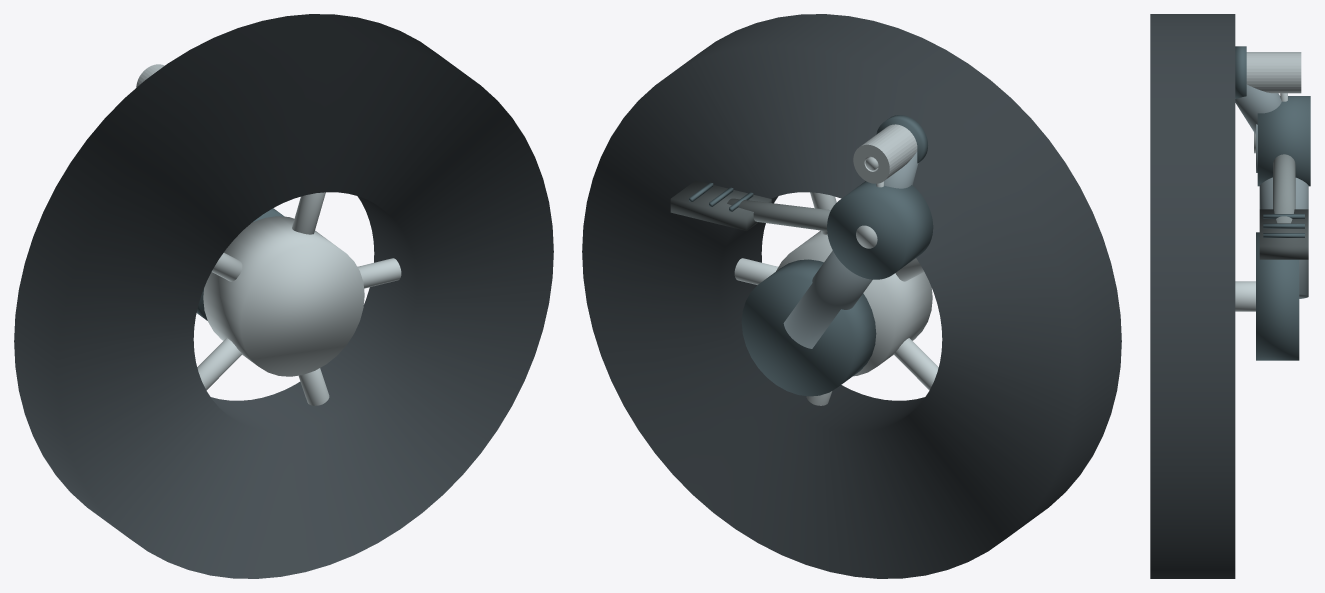
The model's file is wheel-rear-left-m.glb.
3 renders of one model, left to right at view 1: azimuth 30°, elevation 25°; view 2: azimuth 150°, elevation 25°; view 3: azimuth 270°, elevation 25°, orthographic.
Parts seen in each view (by area): view 1: RL_tire.002, RL_sealed_hub.002, RL_spoke_3.002, RL_spoke_1.002, RL_spoke_0.002, RL_spoke_4.002; view 2: RL_tire.002, RL_brake_backplate.002, compact_rear_elastomer_case_-1.002, RL_sealed_hub.002, aligned_short_rear_arm_-1.002, V46_brake_tread.003, rear_load_spigot_-1.002, V46_brake_lever.003, RL_spoke_3.002, RL_spoke_0.002, rear_module_shoulder_-1.002; view 3: RL_tire.002, RL_brake_backplate.002, compact_rear_elastomer_case_-1.002, rear_load_spigot_-1.002, V46_brake_tread.003, V46_brake_lever.003, aligned_short_rear_arm_-1.002, fixed_rear_module_root_-1.002, RL_fixed_axle.002, rear_module_shoulder_-1.002, V46_tread_rib_0.003.
Boxes of the visible parts, <box> form: RL_tire.002: <box>14,14,553,578</box>; RL_sealed_hub.002: <box>203,216,364,376</box>; RL_spoke_3.002: <box>197,338,242,390</box>; RL_spoke_1.002: <box>292,192,325,234</box>; RL_spoke_0.002: <box>357,258,401,288</box>; RL_spoke_4.002: <box>298,368,329,405</box>; RL_tire.002: <box>582,14,1121,578</box>; RL_brake_backplate.002: <box>741,259,876,396</box>; compact_rear_elastomer_case_-1.002: <box>827,181,933,279</box>; RL_sealed_hub.002: <box>776,230,932,376</box>; aligned_short_rear_arm_-1.002: <box>783,250,872,348</box>; V46_brake_tread.003: <box>670,180,771,230</box>; rear_load_spigot_-1.002: <box>853,124,917,183</box>; V46_brake_lever.003: <box>727,198,830,231</box>; RL_spoke_3.002: <box>893,338,938,390</box>; RL_spoke_0.002: <box>734,258,778,284</box>; rear_module_shoulder_-1.002: <box>876,115,927,163</box>; RL_tire.002: <box>1150,14,1235,578</box>; RL_brake_backplate.002: <box>1256,232,1299,360</box>; compact_rear_elastomer_case_-1.002: <box>1257,96,1310,186</box>; rear_load_spigot_-1.002: <box>1246,52,1301,93</box>; V46_brake_tread.003: <box>1259,209,1308,259</box>; V46_brake_lever.003: <box>1273,154,1295,223</box>; aligned_short_rear_arm_-1.002: <box>1259,177,1308,298</box>; fixed_rear_module_root_-1.002: <box>1235,84,1281,134</box>; RL_fixed_axle.002: <box>1235,281,1255,311</box>; rear_module_shoulder_-1.002: <box>1235,46,1246,98</box>; V46_tread_rib_0.003: <box>1263,223,1304,228</box>.
Size of the model in its own units: 0.3 by 0.3 by 0.085.
